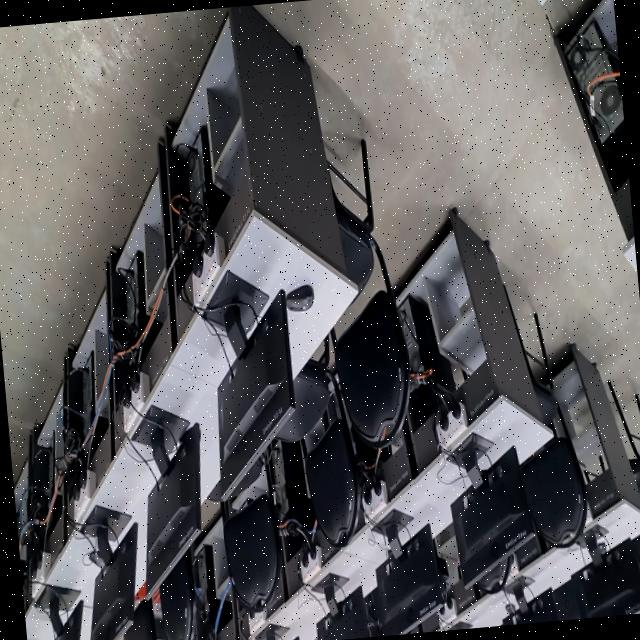Chair: (328, 140, 409, 448), (505, 289, 587, 547), (282, 335, 358, 547), (221, 454, 280, 612), (608, 381, 640, 495), (160, 550, 194, 640), (476, 555, 513, 592), (123, 600, 157, 640)
Cpu: (563, 19, 624, 145), (397, 296, 429, 390), (187, 149, 204, 206), (126, 272, 137, 324)
Monitor: (218, 290, 295, 498), (451, 447, 536, 588), (146, 408, 201, 590), (375, 511, 444, 636), (90, 524, 137, 640), (575, 540, 640, 618), (316, 574, 370, 640), (513, 586, 559, 624), (49, 597, 83, 640)
Mouse: (286, 285, 313, 312)
